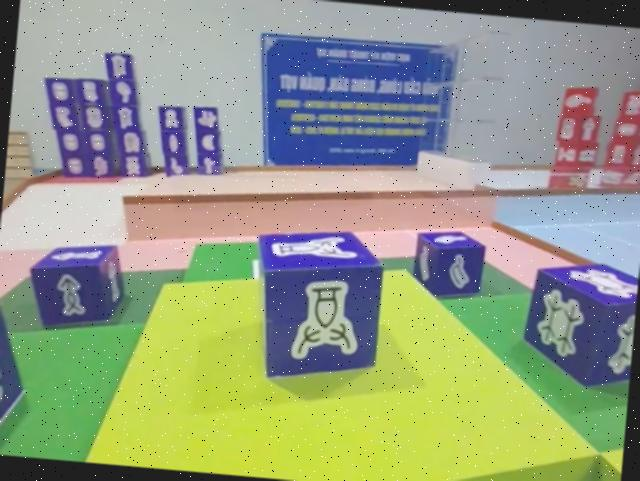R2 Real Blue: (243, 221, 384, 389), (518, 256, 639, 389), (24, 236, 128, 333), (407, 229, 486, 304), (0, 302, 30, 455)
